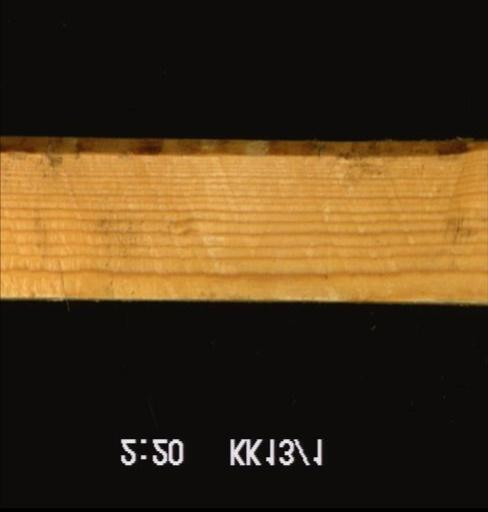wave: (0, 133, 485, 161)
